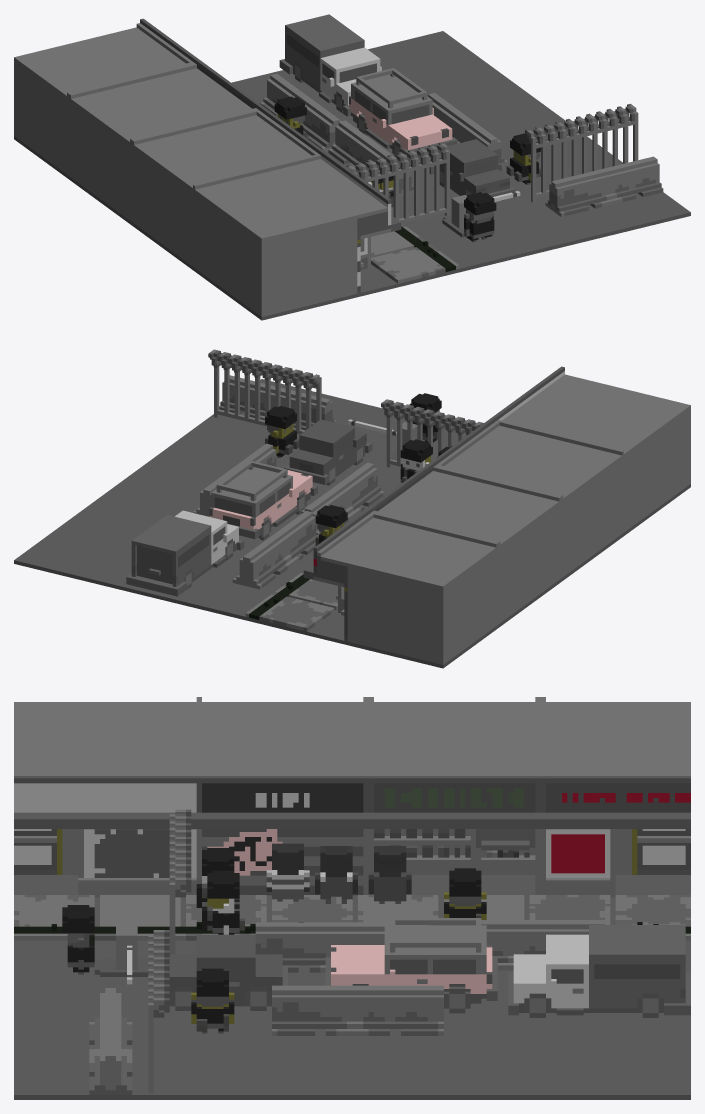
Rendered from scene_checkpoint.obj.
3 renders of one model, top to bottom at view 1: azimuth 30°, elevation 25°; view 2: azimuth 150°, elevation 25°; view 3: azimuth 270°, elevation 25°, orthographic. The views are drawn at different scales.
Bounding box in the file's own units: 126 × 25 × 126.
